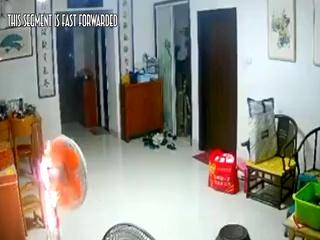Fire: (39, 140, 59, 232)
